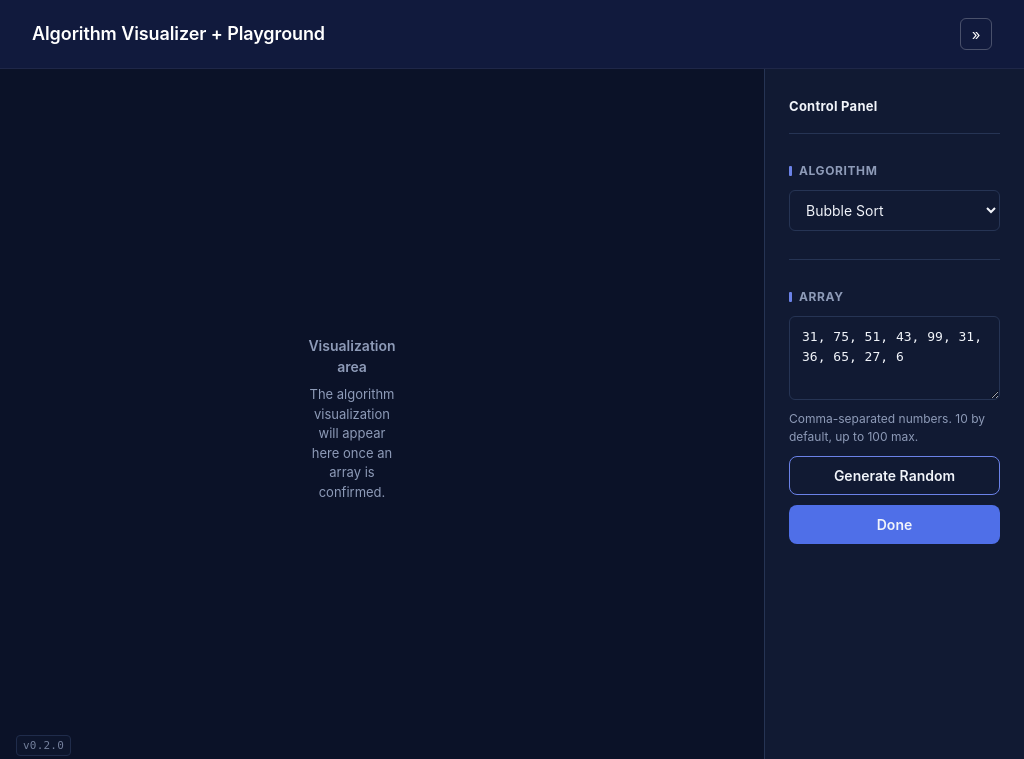
Scenario: App — Statistics Panel placement › Statistics is positioned via its own overlay container, not by StatisticsPanel itself
Replace the text in the text box labelled "Array" with "8, 3, 5, 1". click: [894, 358]
box: [789, 316, 1000, 400]
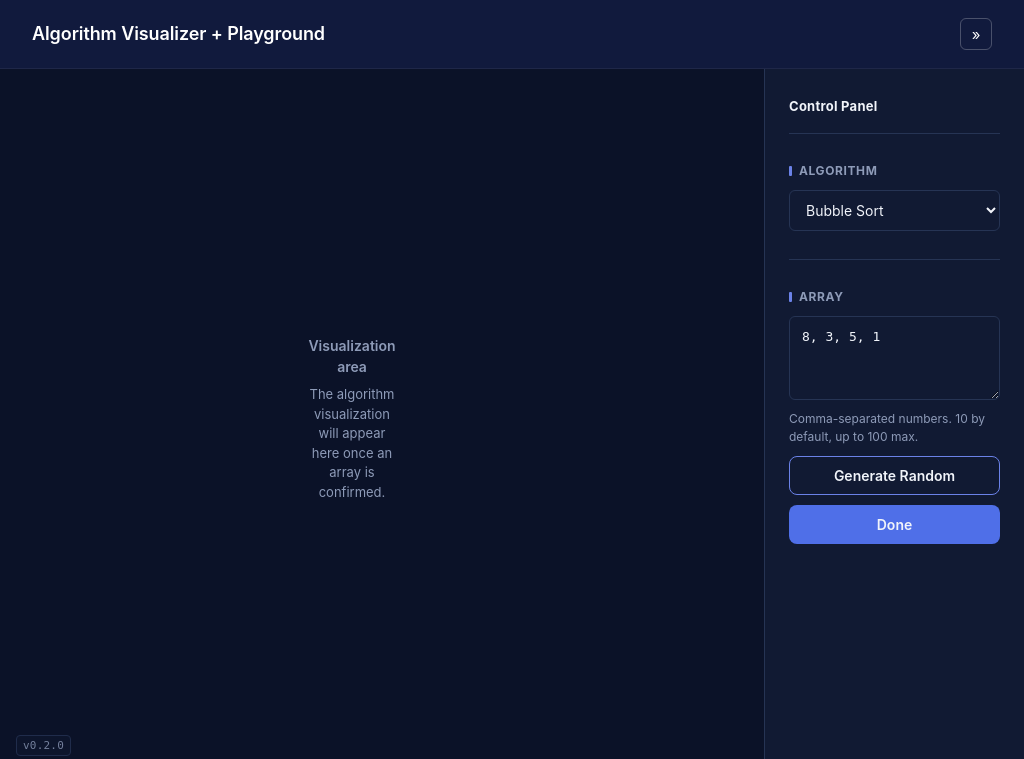
Click the button "Done". click: [894, 524]
box: [789, 505, 1000, 544]
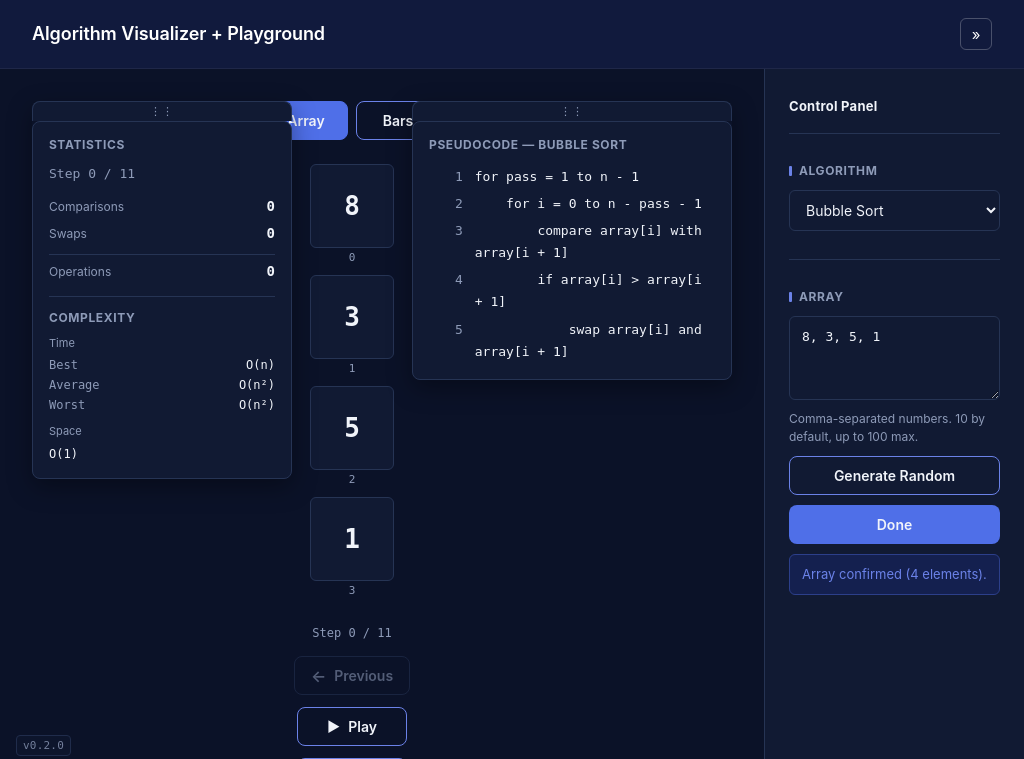
Now the element with class "statistics-panel-overlay" is shown, box [32, 101, 292, 478]
Now the element with class "statistics-panel" is shown, box [32, 121, 292, 478]
